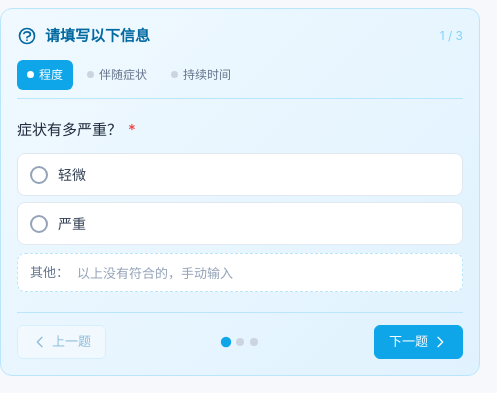
Test: QuestionnaireCard › 选择非末题的单选答案后自动进入下一题
Click the radio button labelled "轻微": click(39, 174) [17,153,463,196]
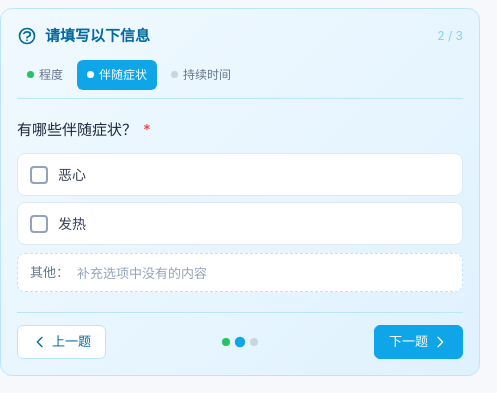
Result: the text "有哪些伴随症状？" is shown at [17,120,141,138]
Result: the text "2 / 3" is shown at [437,27,463,45]
